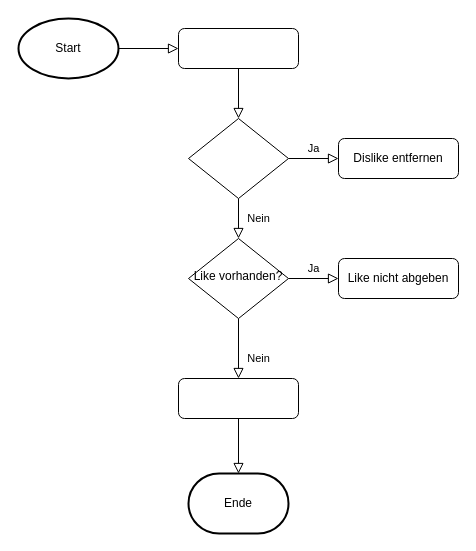
This 476x551 diagram has some shape labels left out. Here are the shapes that lost their labels. From the top down, the centre of each, then its label:
At (x=238, y=48): "Like abgeben".
At (x=238, y=158): "Disklike vorhanden?".
At (x=238, y=398): "Like speichen".
